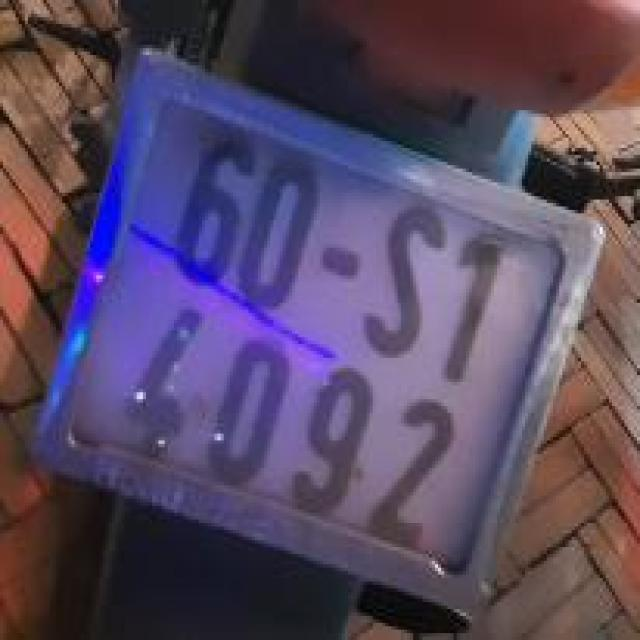0: (219, 136, 344, 340), (185, 316, 310, 516)
1: (409, 206, 525, 404)
2: (355, 380, 475, 570)
4: (96, 296, 223, 484)
6: (145, 106, 271, 309)
9: (271, 340, 398, 554)
S: (332, 164, 471, 390)
